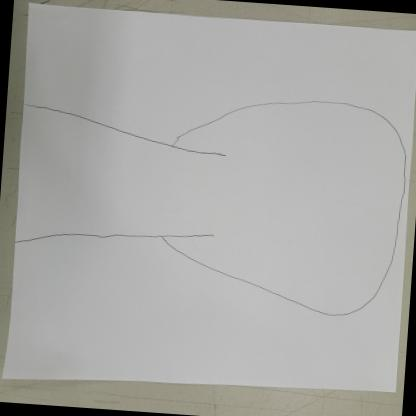crown_mushroom: (160, 86, 413, 324)
trunk_reflex: (15, 92, 166, 254)
